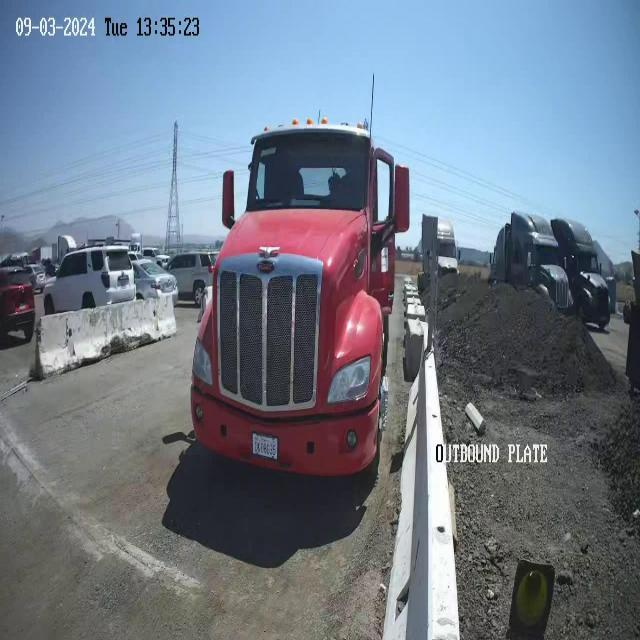TRUCK_OUT: (190, 73, 410, 479)
